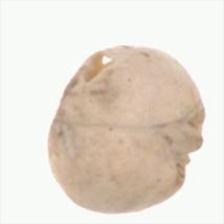L3: (158, 99, 208, 188)
L4: (48, 45, 207, 214)
